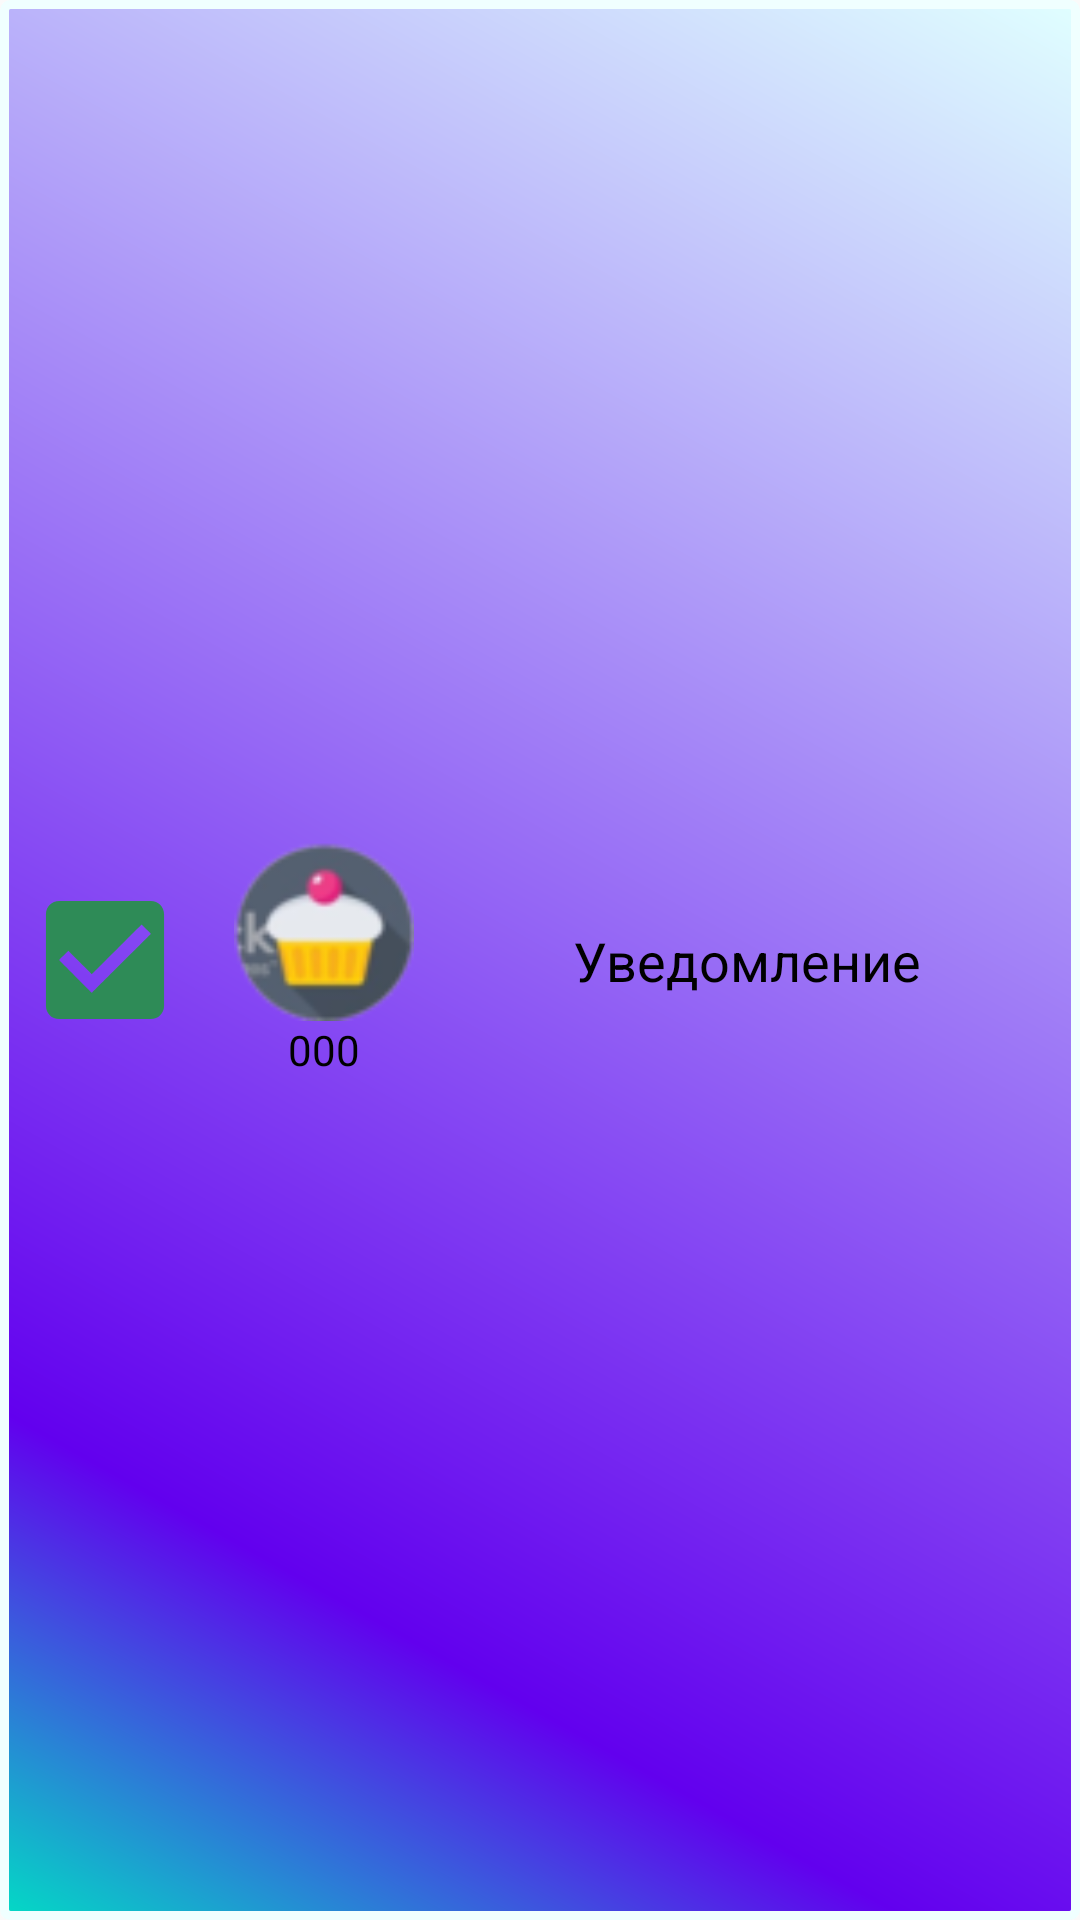

Locate icon controls on the screen. Image size 1080 x 1920, boxes as (x1, y1, x2, y2).
food: (234, 844, 414, 1021)
